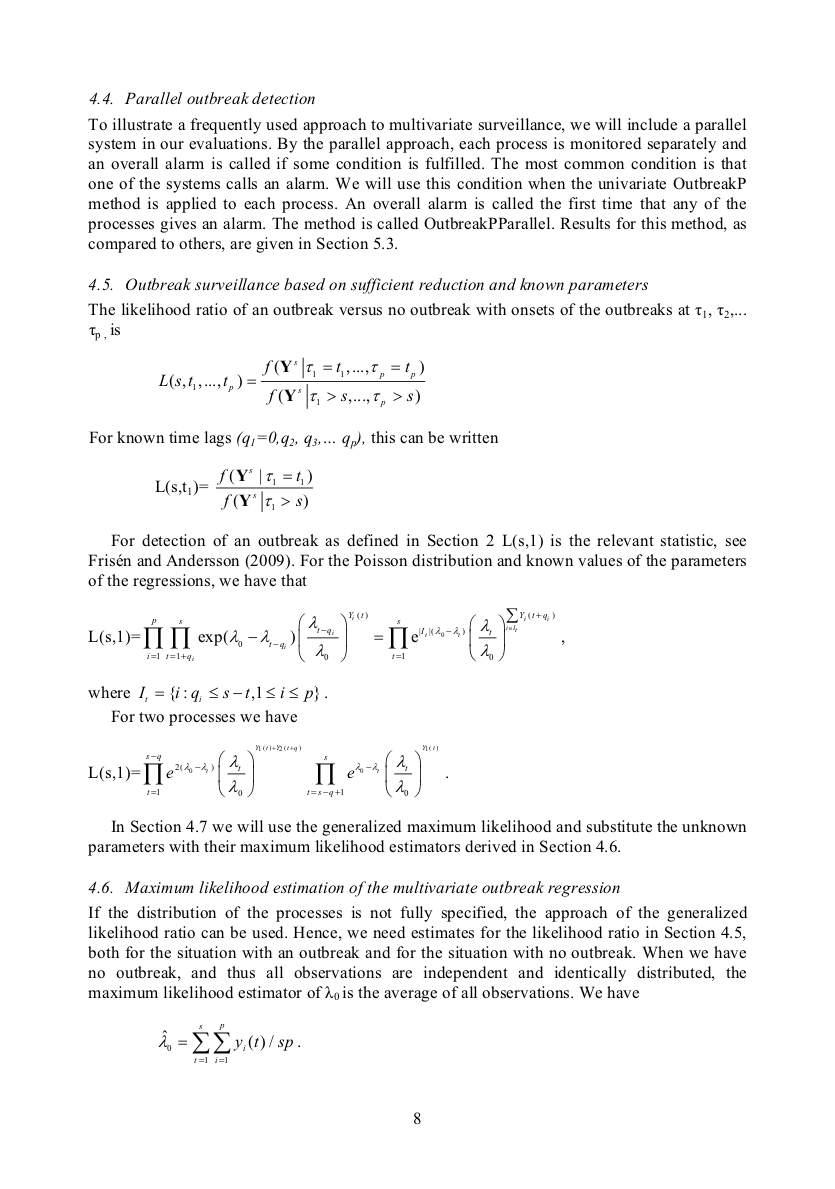formula: (88, 607, 564, 663), (88, 744, 447, 798), (158, 356, 425, 409), (155, 468, 312, 512), (158, 1024, 299, 1062)
